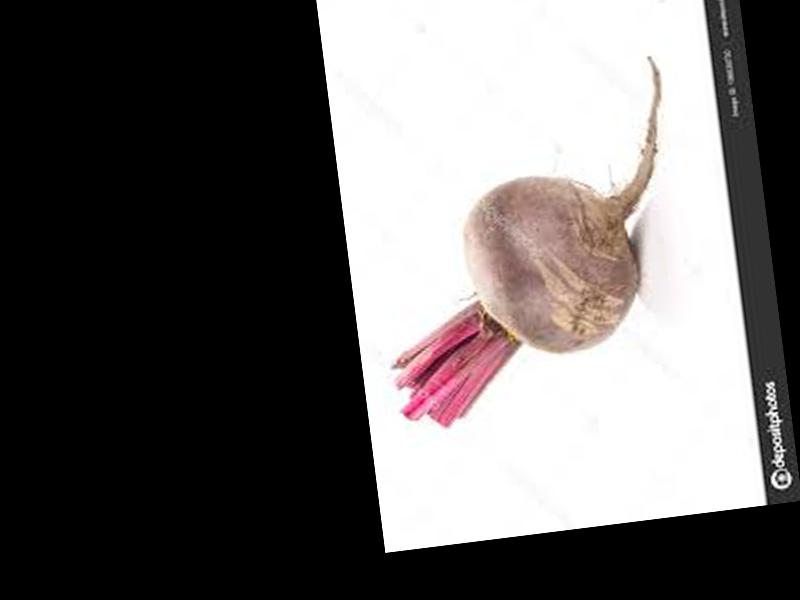Beet: (358, 55, 698, 430)
